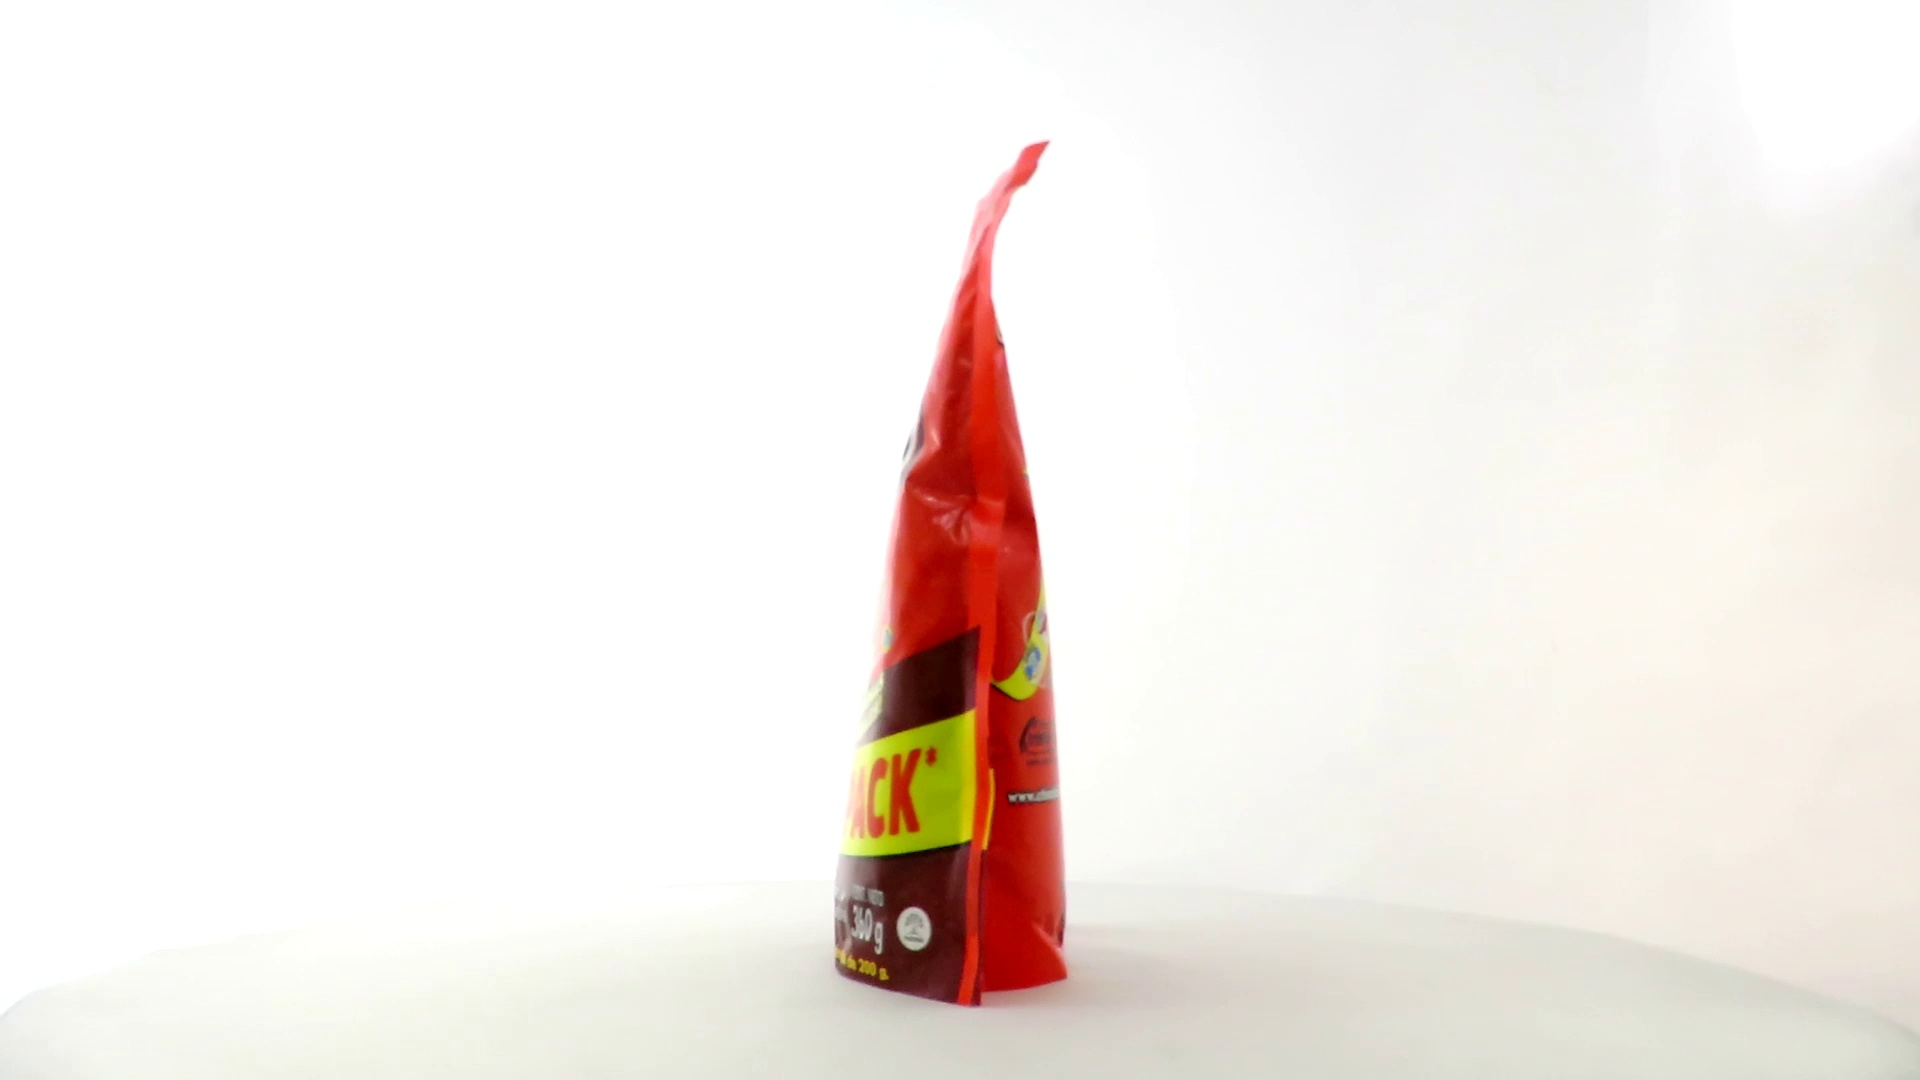COL0170103DYP36000: (829, 136, 1073, 1014)
